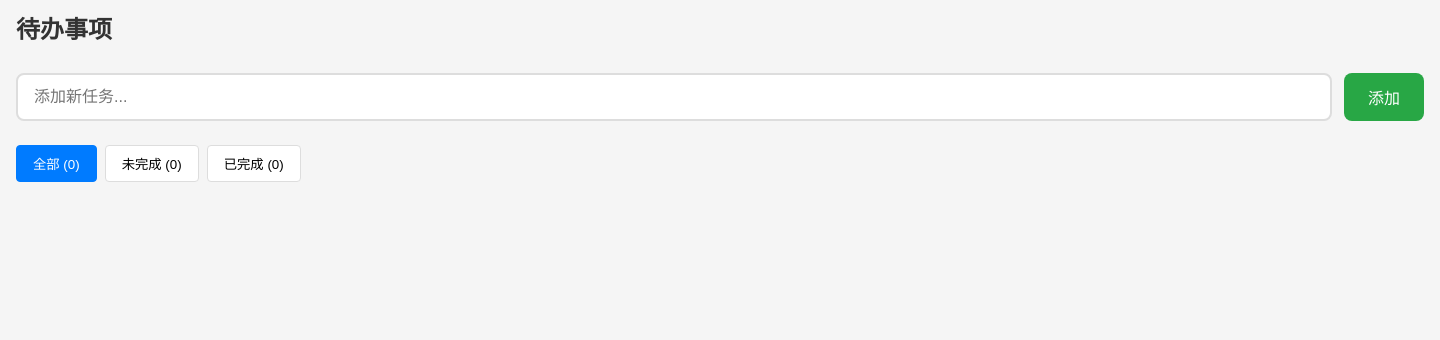
Test: TodoList › should add a new todo when form is submitted
In the field with placeholder "添加新任务...": [674, 97] box [16,73,1332,121], type "测试任务"
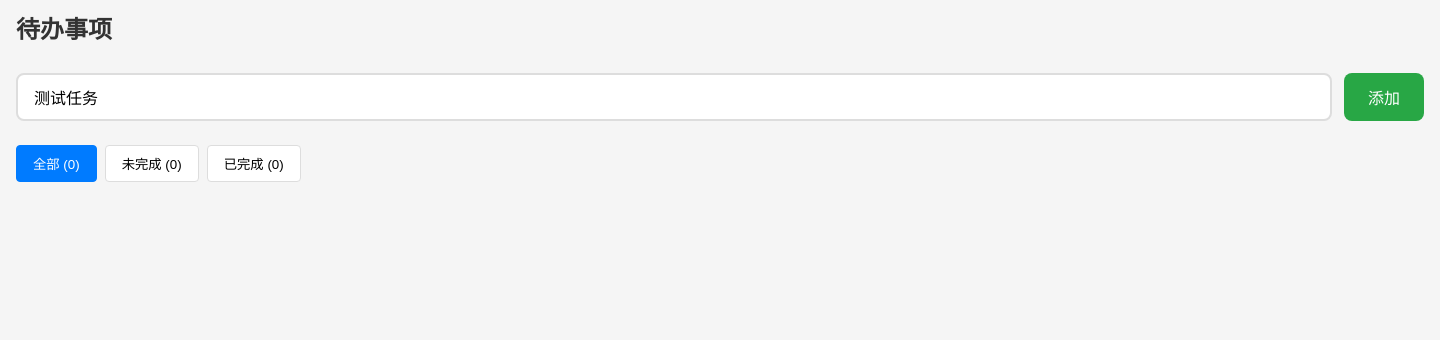
Click the button "添加": [1384, 97] box [1344,73,1424,121]
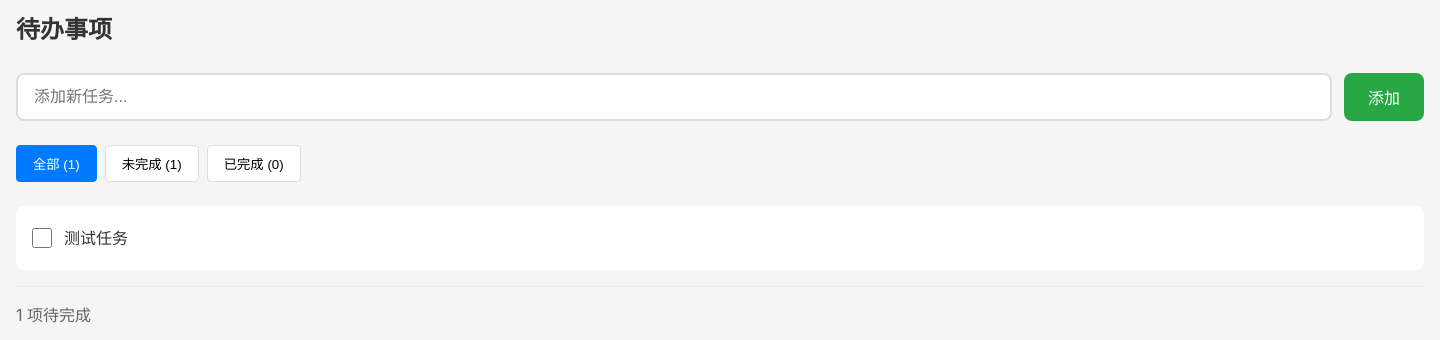
expect the text "测试任务" is shown: met, box [64,226,128,251]
